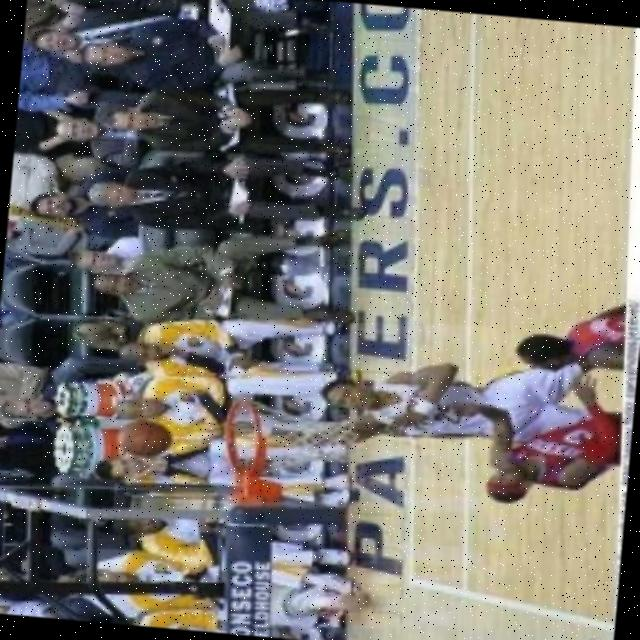ball: (113, 412, 174, 466)
hoop: (218, 389, 267, 482)
